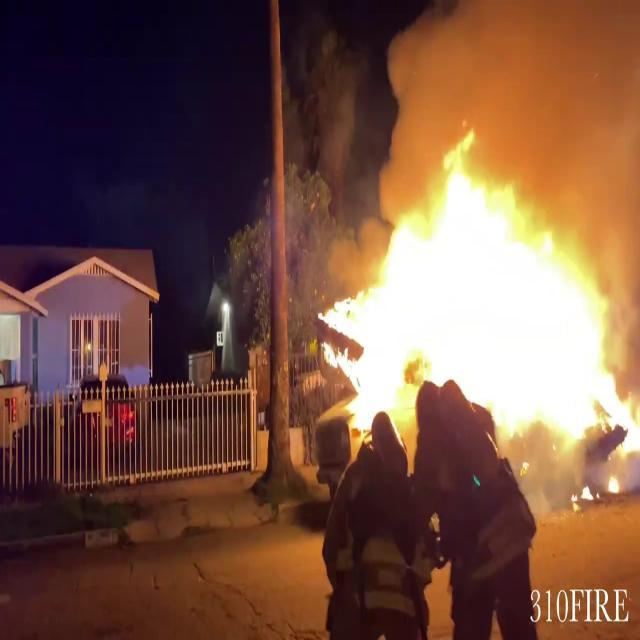Fire: (310, 129, 640, 454)
Smoke: (379, 0, 640, 192)
